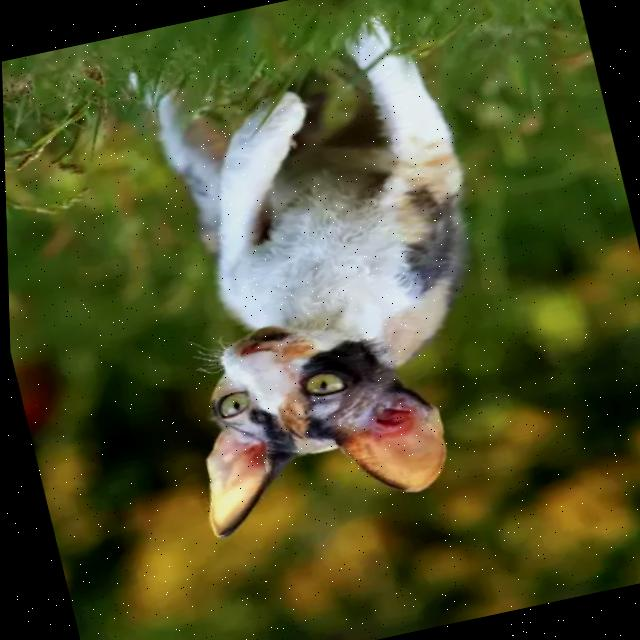Cornish Rex: (88, 0, 547, 546)
